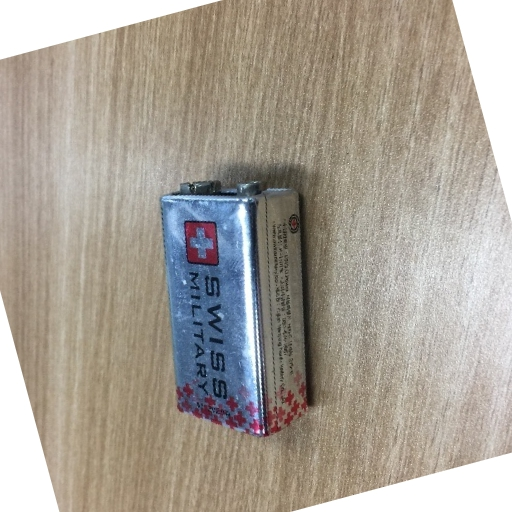Battery_3: (142, 163, 325, 452)
